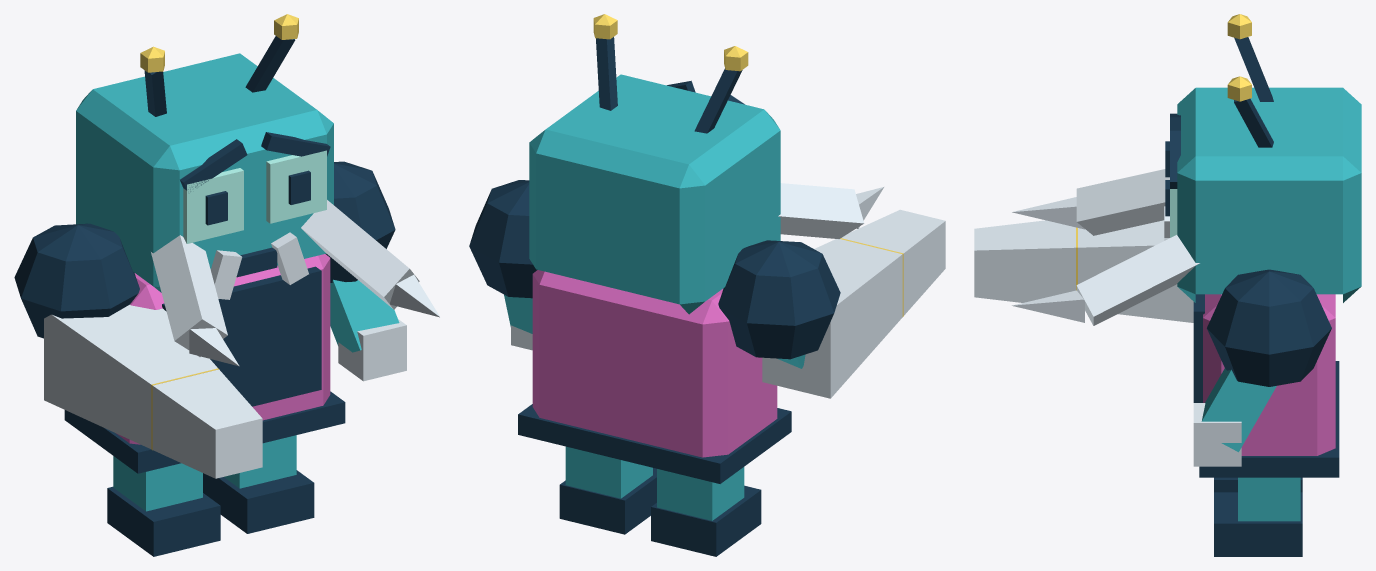
The model's file is breacher_r12.glb.
The picture shows the model from 3 angles, left to right: view 1: azimuth 30°, elevation 25°; view 2: azimuth 150°, elevation 25°; view 3: azimuth 270°, elevation 25°; orthographic projection. The views are drawn at different scales.
Visible parts, largest first — view 1: breacher_r12_mesh; view 2: breacher_r12_mesh; view 3: breacher_r12_mesh.
Boxes of the visible parts, x1=… form: breacher_r12_mesh: x1=14, y1=14, x2=440, y2=556; breacher_r12_mesh: x1=469, y1=14, x2=945, y2=556; breacher_r12_mesh: x1=974, y1=14, x2=1361, y2=556.
Bounding box in the file's own units: 1.55 × 2 × 1.48.
1 material, 1 textured.
